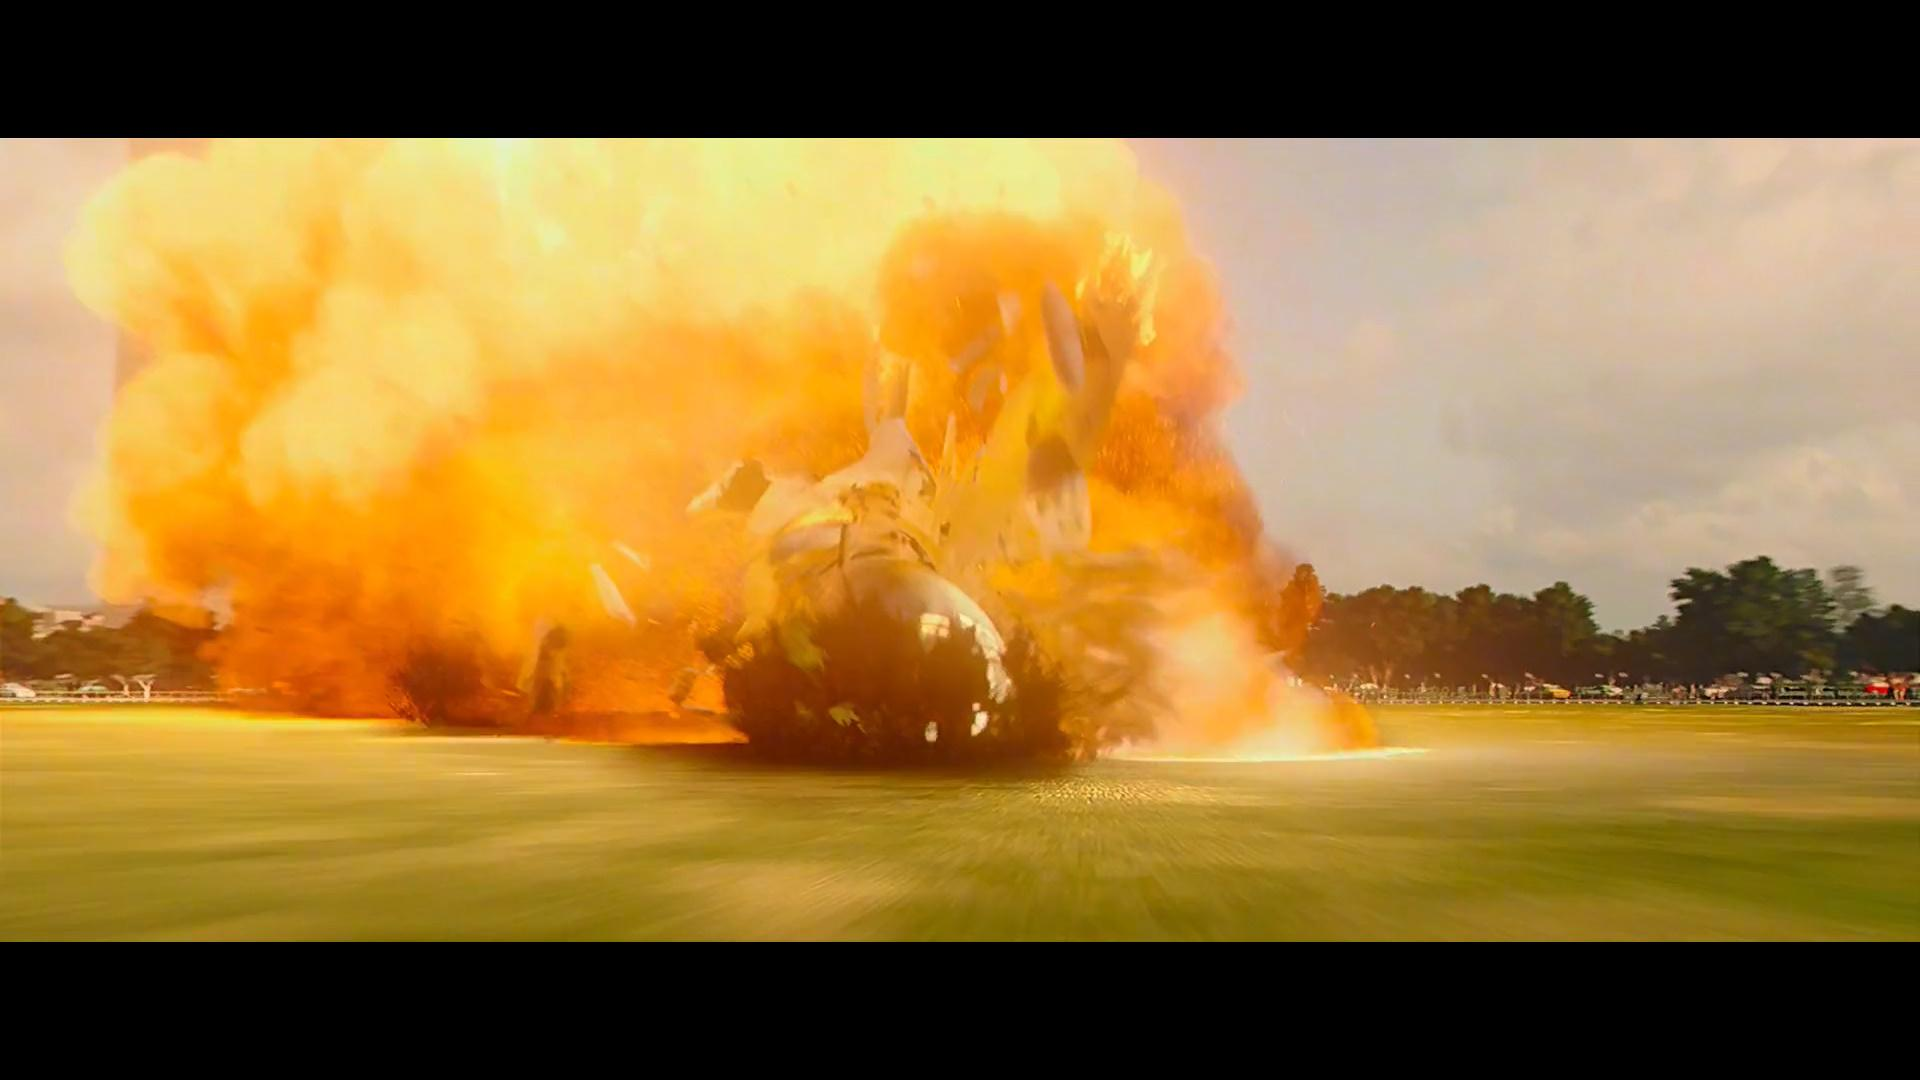fire: (46, 135, 1395, 758)
